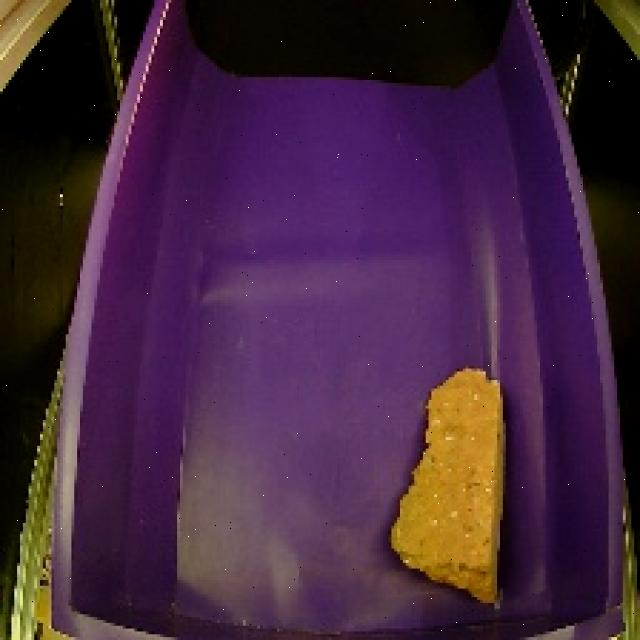brick: (375, 351, 517, 614)
